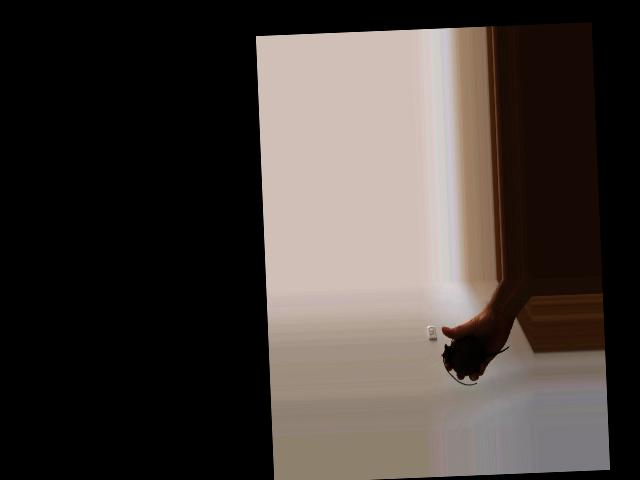beet: (441, 336, 511, 387)
